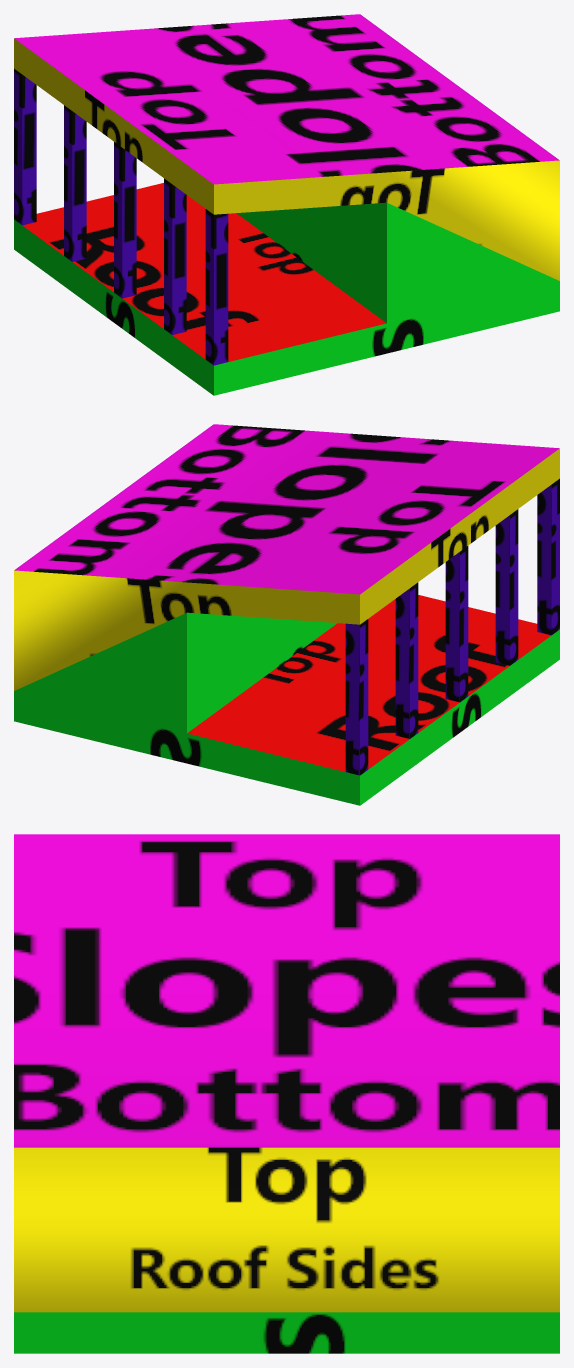
The model's file is ENV_Roof1x1TypeSeven.fbx.
The picture shows the model from 3 angles, top to bottom: view 1: azimuth 30°, elevation 25°; view 2: azimuth 150°, elevation 25°; view 3: azimuth 270°, elevation 25°; orthographic projection. The views are drawn at different scales.
Parts seen in each view (by area): view 1: ENV_OneXOneRoofSeven; view 2: ENV_OneXOneRoofSeven; view 3: ENV_OneXOneRoofSeven.
Boxes of the visible parts, x1,y1,x2,y2 form: ENV_OneXOneRoofSeven: (14, 14, 559, 395); ENV_OneXOneRoofSeven: (14, 424, 559, 805); ENV_OneXOneRoofSeven: (14, 834, 559, 1353).
Size of the model in its own units: 12 by 7 by 12.
